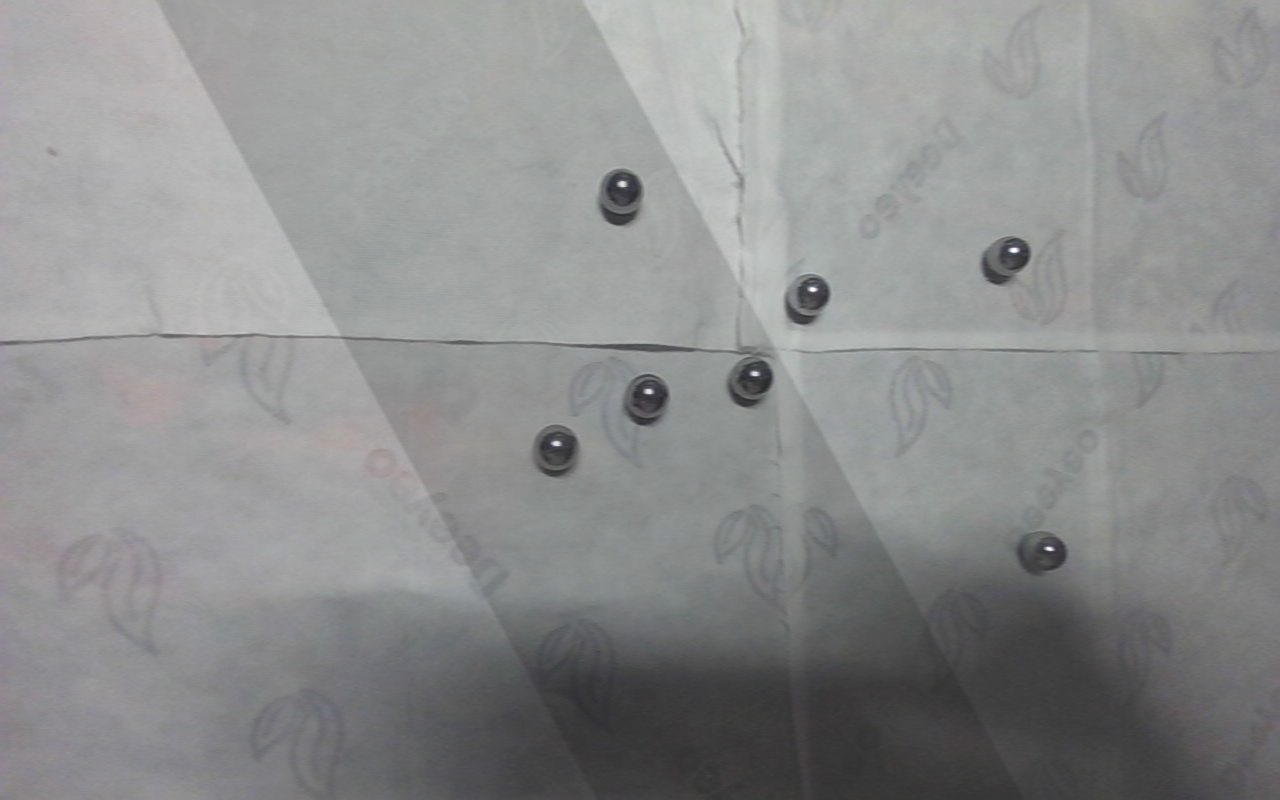ball: (532, 421, 584, 478), (599, 161, 647, 218), (623, 372, 672, 424), (728, 353, 777, 405), (983, 231, 1034, 280), (1019, 527, 1070, 576), (785, 272, 833, 321)
